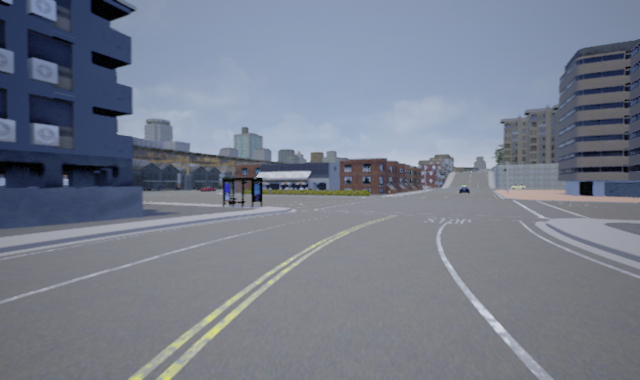vehicle: (460, 184, 471, 195)
